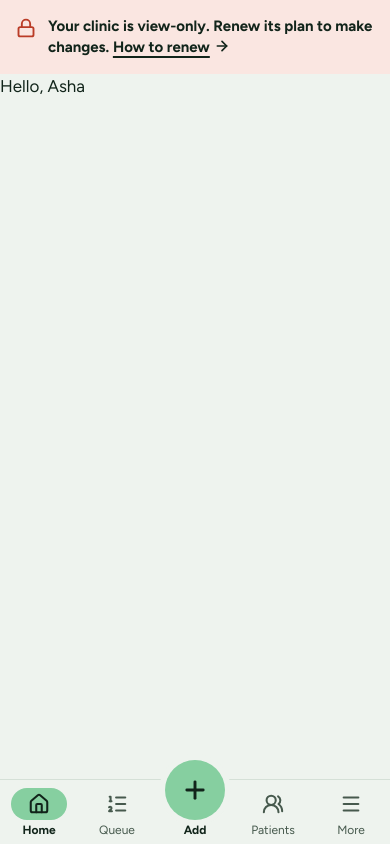
Test: the plan (plan §7.2, D73) › in a view-only clinic, still opens the ＋, each action turned off and saying why
Step 1. Click the button "Add" → (195, 812), box [156,780,234,843]
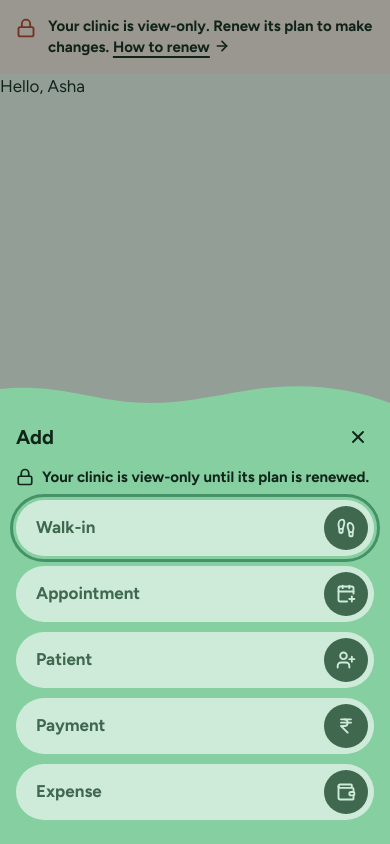
Check: the dialog "Add" shows "Your clinic is view-only until its plan is renewed.", box [42,468,369,486]
